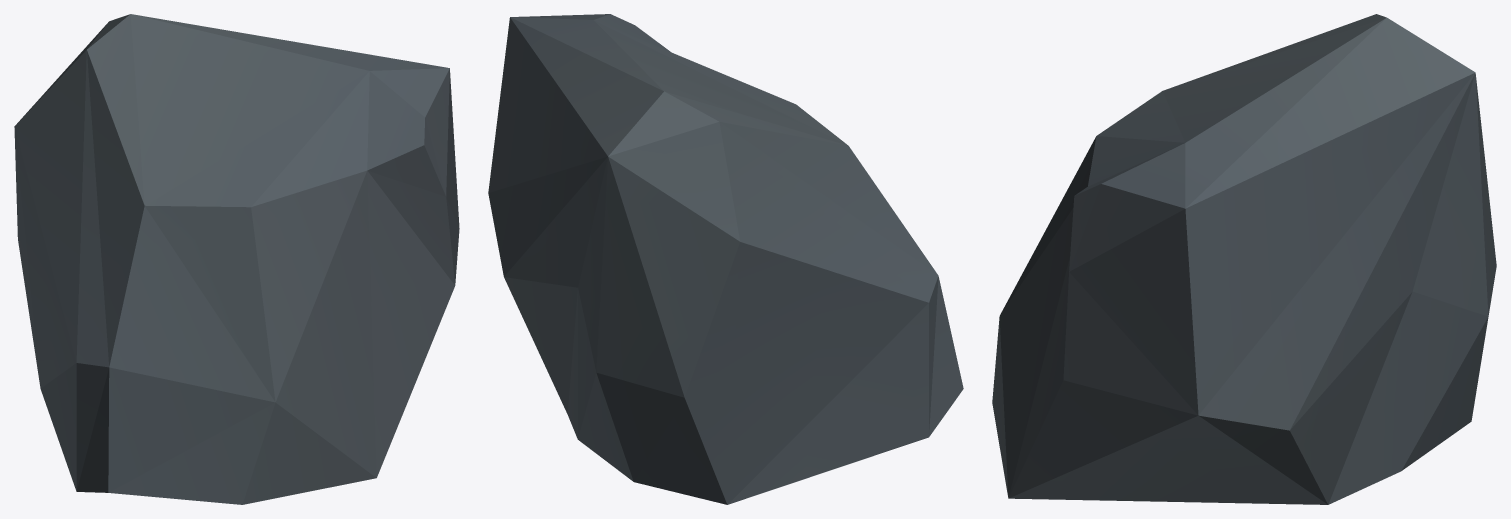
Rendered from rock3.fbx.
The picture shows the model from 3 angles, left to right: view 1: azimuth 30°, elevation 25°; view 2: azimuth 150°, elevation 25°; view 3: azimuth 270°, elevation 25°; orthographic projection. The views are drawn at different scales.
Parts seen in each view (by area): view 1: Rock_Medium_Stone_05; view 2: Rock_Medium_Stone_05; view 3: Rock_Medium_Stone_05.
Boxes of the visible parts, box(x1,y1,x2,y2) form: Rock_Medium_Stone_05: box(14, 14, 459, 504); Rock_Medium_Stone_05: box(488, 14, 963, 504); Rock_Medium_Stone_05: box(992, 14, 1496, 504).
Size of the model in its own units: 881 by 766 by 811.
Materials: 1 (1 with a texture image).
